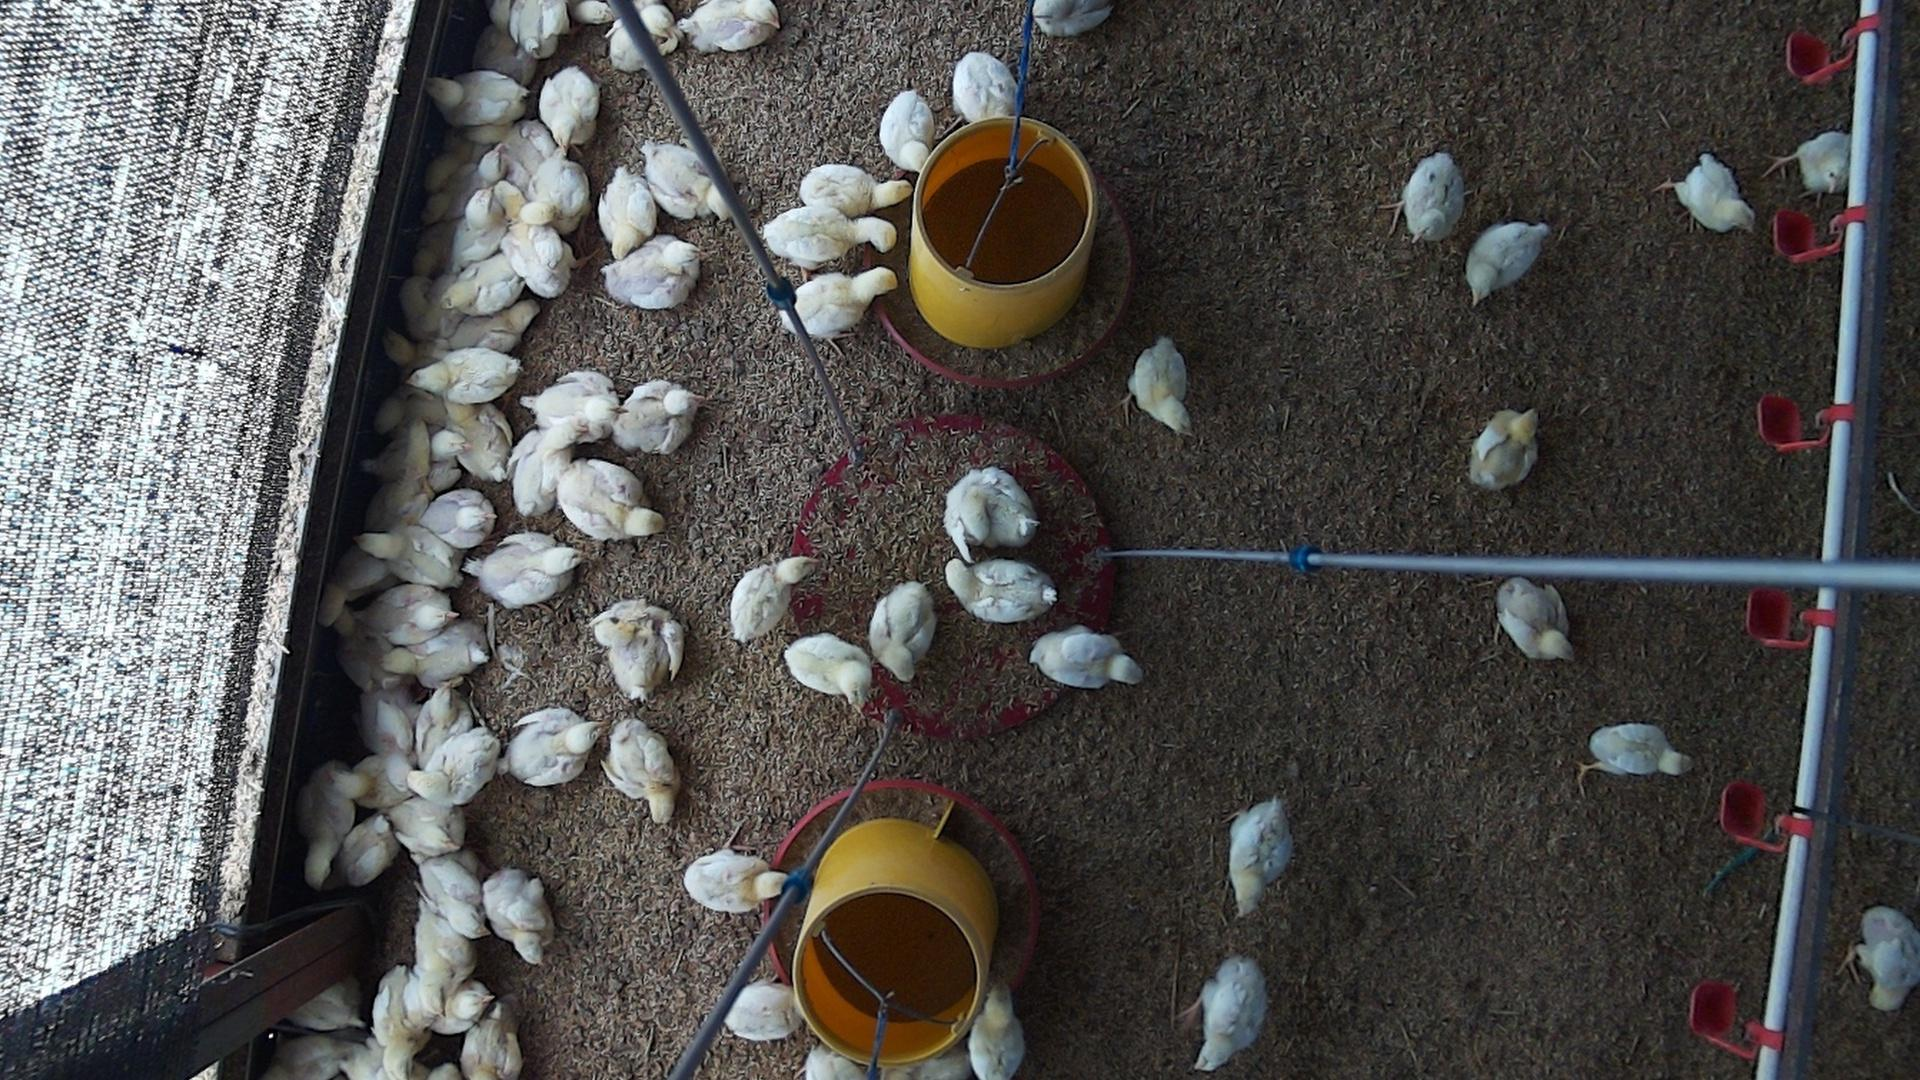ayam_broiler: (498, 178, 587, 294), (778, 268, 895, 352), (758, 204, 898, 274), (589, 597, 683, 702), (554, 458, 661, 541), (465, 533, 579, 607), (1197, 955, 1269, 1072), (410, 189, 502, 277), (1229, 798, 1292, 916), (947, 465, 1038, 547), (299, 767, 361, 886), (641, 140, 732, 220), (604, 717, 674, 822), (944, 559, 1059, 622), (504, 707, 596, 785), (521, 371, 617, 443), (418, 720, 500, 804), (785, 633, 872, 712), (604, 236, 698, 309), (1466, 220, 1551, 301), (728, 555, 807, 641), (417, 903, 477, 1014), (388, 622, 489, 688), (1030, 625, 1139, 686), (518, 136, 588, 231), (869, 582, 935, 682), (1857, 906, 1919, 1011), (422, 144, 502, 224), (483, 866, 549, 964), (410, 347, 522, 404), (372, 965, 427, 1079), (1497, 576, 1572, 659), (611, 378, 694, 452), (1675, 150, 1753, 228), (684, 847, 777, 911), (1129, 335, 1188, 433), (802, 165, 905, 220), (322, 546, 390, 629), (968, 980, 1025, 1080), (723, 980, 816, 1040), (597, 165, 658, 258), (512, 421, 572, 514), (375, 434, 439, 521), (1468, 407, 1538, 488), (418, 853, 483, 939), (446, 402, 516, 481), (363, 524, 454, 584), (442, 249, 525, 314), (673, 0, 777, 51), (430, 71, 526, 127), (1402, 152, 1461, 240), (410, 684, 469, 773), (1589, 721, 1688, 774), (607, 0, 676, 74), (371, 585, 454, 646), (539, 66, 599, 150), (952, 51, 1019, 123), (385, 796, 460, 858), (491, 120, 563, 183), (419, 488, 495, 547), (881, 87, 932, 173), (463, 1006, 521, 1079), (339, 812, 396, 886), (1795, 127, 1855, 195), (451, 303, 533, 351), (361, 692, 418, 760), (340, 753, 409, 808), (426, 984, 491, 1031), (509, 0, 566, 53)
